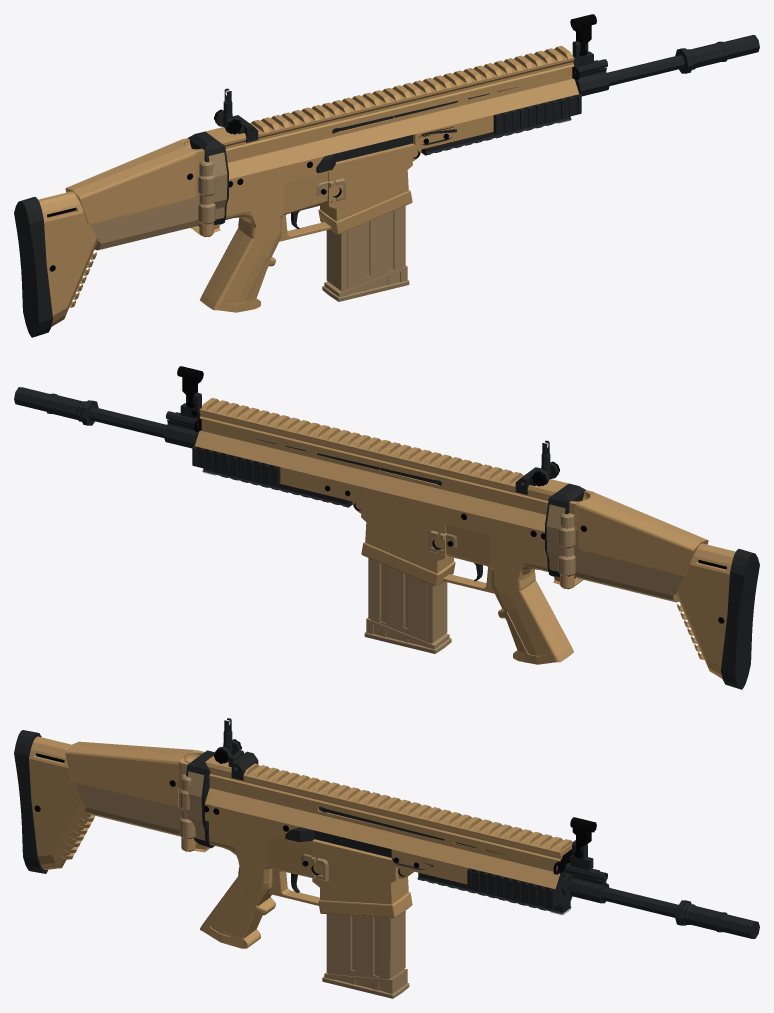
Rendered from scar.fbx.
3 views of the same model, one above another, from view 1: azimuth 30°, elevation 25°; view 2: azimuth 150°, elevation 25°; view 3: azimuth 330°, elevation 25° (orthographic).
Visible parts, largest first — view 1: Cube.010, Cube.009, Cube, Cube.004, Cube.002, Cube.007, Cube.014, Cube.003, Cylinder.001, Cube.001, Cube.006, Cube.019 (+3 smaller); view 2: Cube.010, Cube.009, Cube, Cube.004, Cube.002, Cube.007, Cube.014, Cube.003, Cylinder.001, Cube.001, Cube.006, Cube.019 (+3 smaller); view 3: Cube.010, Cube.009, Cube.004, Cube, Cube.002, Cube.007, Cube.014, Cylinder.001, Cube.001, Cube.003, Cube.006, Cube.019 (+5 smaller).
Part boxes in pixels (<box>): Cube.010: <box>205,49,578,196</box>; Cube.009: <box>200,172,328,312</box>; Cube: <box>65,138,204,224</box>; Cube.004: <box>322,206,409,301</box>; Cube.002: <box>38,191,97,326</box>; Cube.007: <box>318,151,412,234</box>; Cube.014: <box>249,45,572,134</box>; Cube.003: <box>14,197,52,337</box>; Cylinder.001: <box>575,35,759,96</box>; Cube.001: <box>90,162,199,250</box>; Cube.006: <box>188,131,228,226</box>; Cube.019: <box>493,94,578,134</box>; Cube.010: <box>195,401,568,548</box>; Cube.009: <box>445,524,573,664</box>; Cube: <box>569,490,708,576</box>; Cube.004: <box>364,558,451,653</box>; Cube.002: <box>676,543,735,678</box>; Cube.007: <box>361,503,455,586</box>; Cube.014: <box>201,398,524,486</box>; Cube.003: <box>721,549,759,689</box>; Cylinder.001: <box>14,387,198,448</box>; Cube.001: <box>574,530,683,602</box>; Cube.006: <box>545,483,585,578</box>; Cube.019: <box>195,446,280,486</box>; Cube.010: <box>205,756,572,905</box>; Cube.009: <box>200,821,312,948</box>; Cube.004: <box>322,911,409,998</box>; Cube: <box>65,741,204,807</box>; Cube.002: <box>29,736,90,869</box>; Cube.007: <box>318,848,412,917</box>; Cube.014: <box>243,763,572,852</box>; Cylinder.001: <box>561,873,759,938</box>; Cube.001: <box>75,774,183,836</box>; Cube.003: <box>14,730,47,873</box>; Cube.006: <box>186,750,214,848</box>; Cube.019: <box>467,868,555,908</box>.
Size of the model in its own units: 1411 by 425 by 105.
